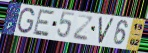5: (56, 10, 76, 40)
6: (113, 20, 129, 46)
E: (31, 8, 56, 38)
G: (16, 7, 36, 35)
V: (98, 16, 115, 44)
Z: (71, 14, 94, 42)
